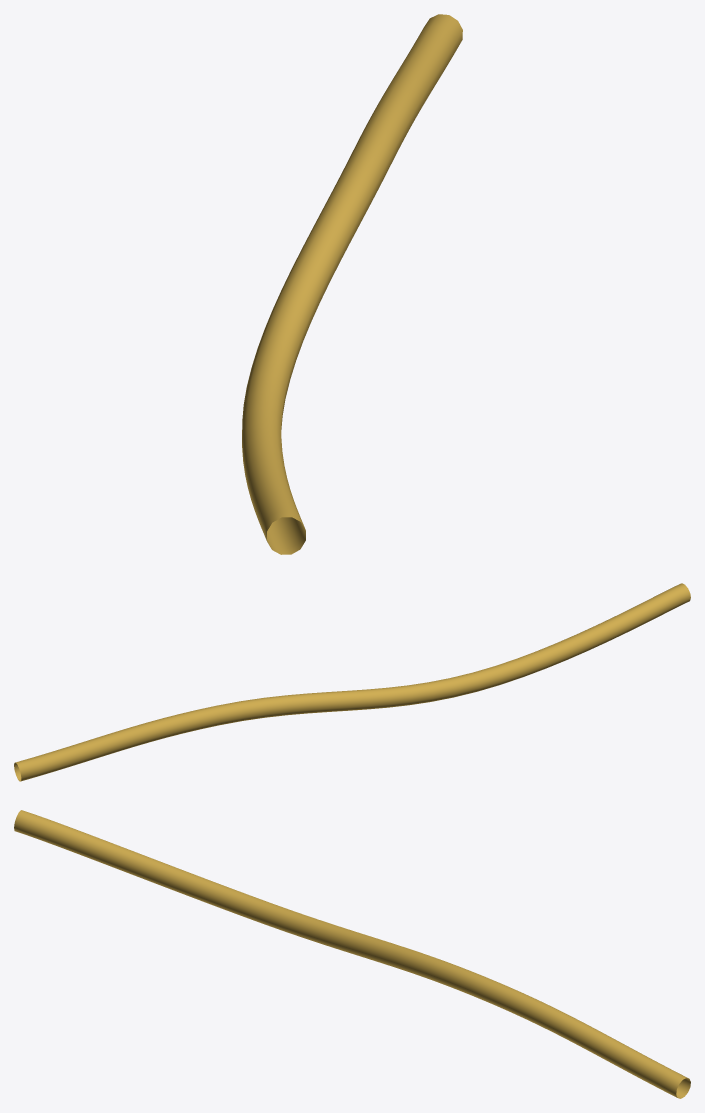
3 renders of one model, top to bottom at view 1: azimuth 30°, elevation 25°; view 2: azimuth 150°, elevation 25°; view 3: azimuth 270°, elevation 25°, orthographic. The views are drawn at different scales.
Parts seen in each view (by area): view 1: 左侧腓深神经肌支; view 2: 左侧腓深神经肌支; view 3: 左侧腓深神经肌支.
Part boxes in pixels (x1,y1,x2,y2): 左侧腓深神经肌支: (242, 14, 462, 554); 左侧腓深神经肌支: (14, 583, 690, 781); 左侧腓深神经肌支: (14, 810, 690, 1098).
Bounding box in the file's own units: 0.0325 × 0.00583 × 0.0436.
